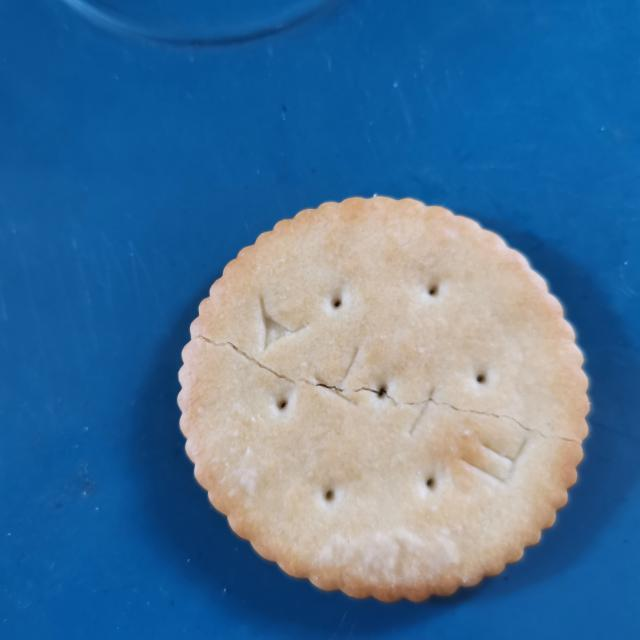Fracture: (180, 319, 589, 464)
